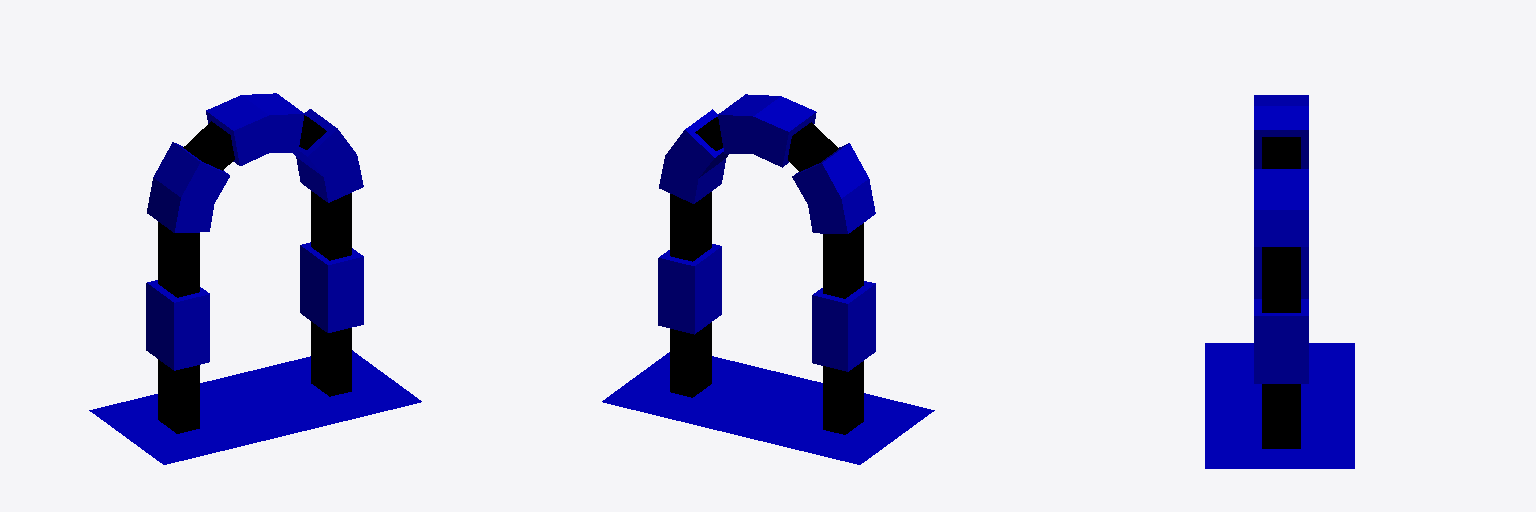
File: portal2.obj
3 renders of one model, left to right at view 1: azimuth 30°, elevation 25°; view 2: azimuth 150°, elevation 25°; view 3: azimuth 270°, elevation 25°, orthographic.
Visible parts, largest first — view 1: Plane.001_Plane.003, Plane_Plane.002; view 2: Plane.001_Plane.003, Plane_Plane.002; view 3: Plane.001_Plane.003, Plane_Plane.002.
Part boxes in pixels (x1,y1,x2,y2): Plane.001_Plane.003: (89, 93, 421, 464); Plane_Plane.002: (158, 115, 351, 433); Plane.001_Plane.003: (602, 94, 934, 464); Plane_Plane.002: (670, 117, 863, 434); Plane.001_Plane.003: (1205, 95, 1354, 468); Plane_Plane.002: (1262, 137, 1300, 448).
Bounding box in the file's own units: 3.99 × 4.42 × 2.